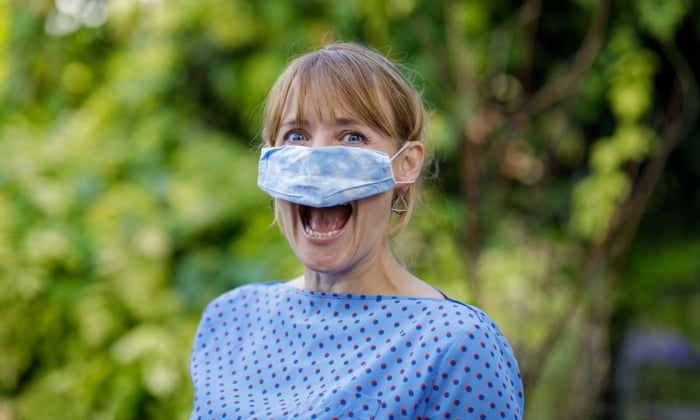with_incorrect_mask: (273, 107, 386, 260)
